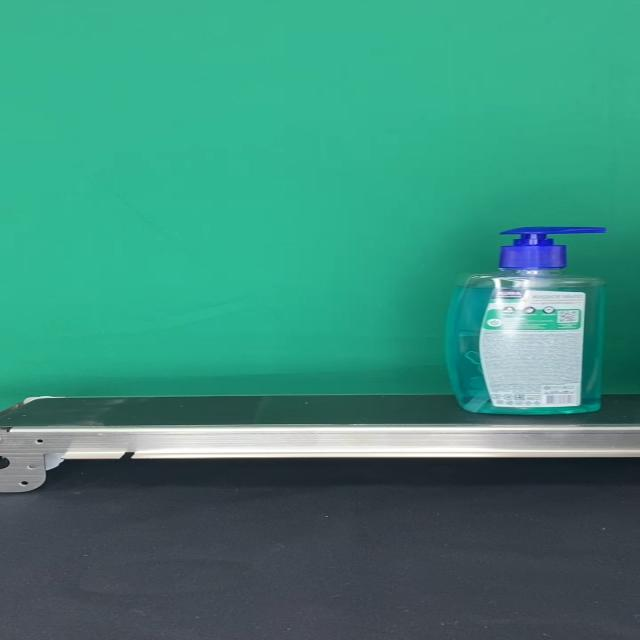Bottle: (442, 226, 606, 414)
Cap: (497, 226, 607, 268)
